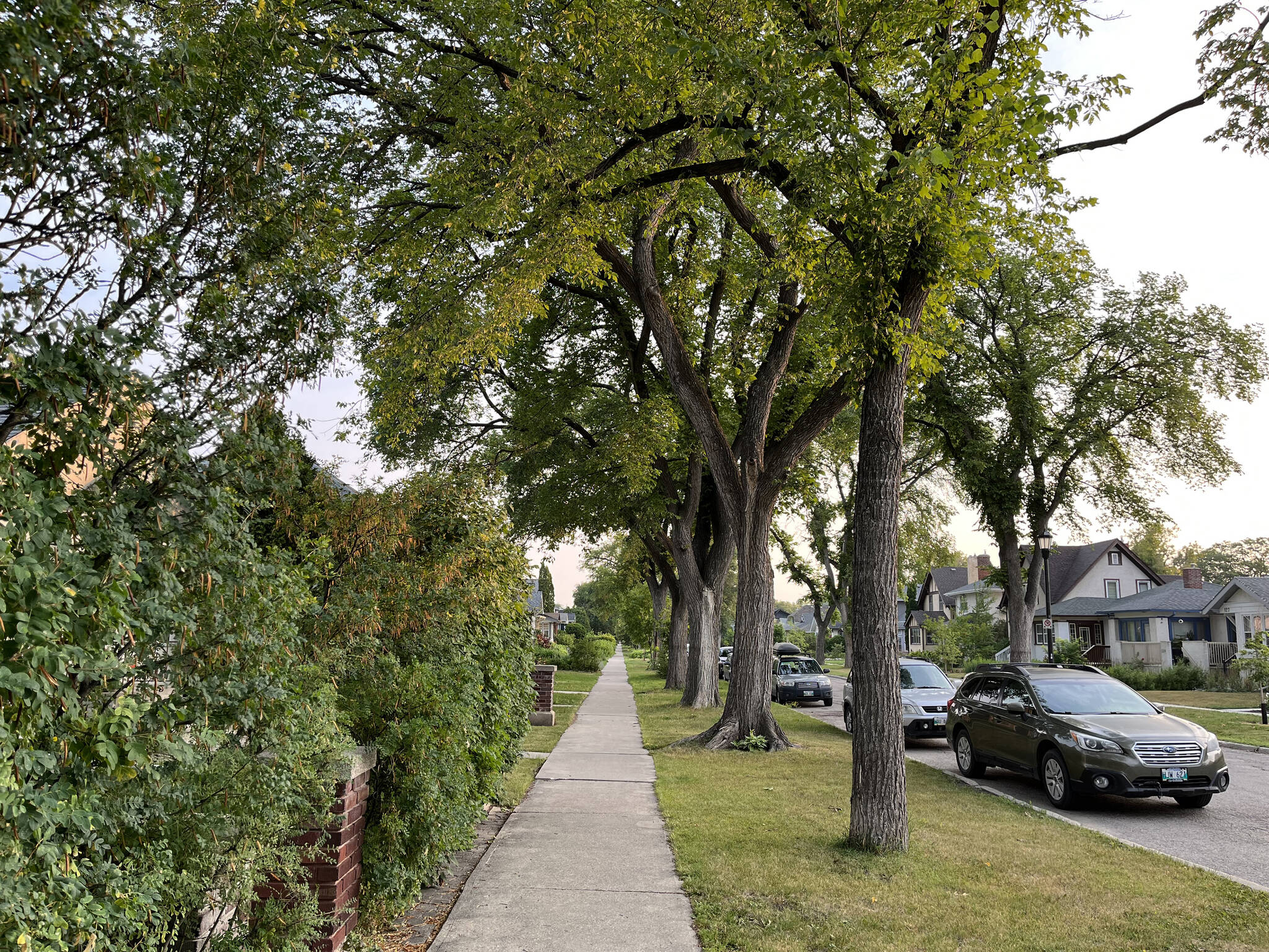Car: (945, 647, 1238, 815), (765, 651, 844, 710)
Tree: (476, 1, 1022, 878), (504, 59, 814, 768)
